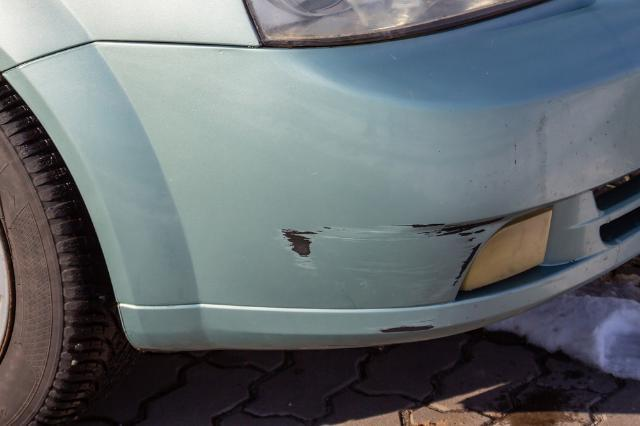scratch: (276, 215, 501, 293), (379, 324, 439, 336)
